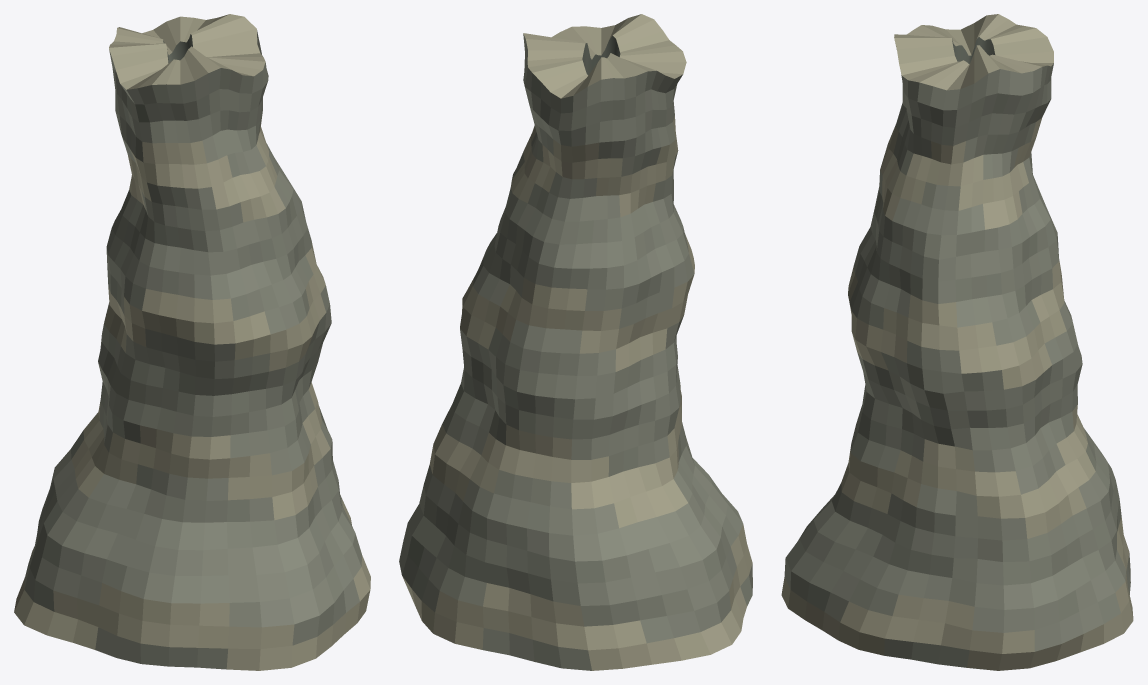
Rendered from hydrothermal-chimney.glb.
3 views of the same model, side by side, from view 1: azimuth 30°, elevation 25°; view 2: azimuth 150°, elevation 25°; view 3: azimuth 270°, elevation 25° (orthographic).
Visible parts, largest first — view 1: continuous-layered-mineral-tower-with-true-narrow-open-condu; view 2: continuous-layered-mineral-tower-with-true-narrow-open-condu; view 3: continuous-layered-mineral-tower-with-true-narrow-open-condu.
Boxes of the visible parts, x1=… form: continuous-layered-mineral-tower-with-true-narrow-open-condu: x1=14, y1=14, x2=370, y2=670; continuous-layered-mineral-tower-with-true-narrow-open-condu: x1=399, y1=14, x2=752, y2=670; continuous-layered-mineral-tower-with-true-narrow-open-condu: x1=781, y1=14, x2=1133, y2=670.
Size of the model in its own units: 0.5096 by 0.85 by 0.4921.
